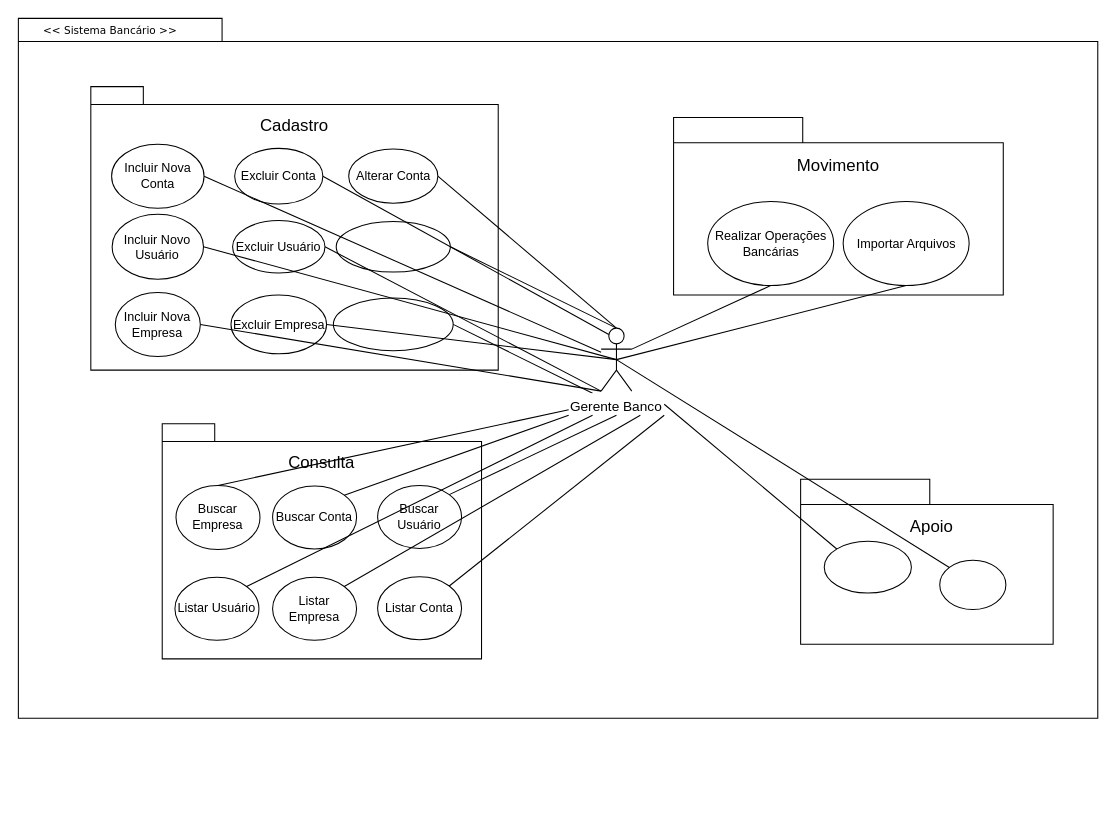
The diagram is 1116 pixels wide and 831 high, and some of its shapes have lost their labels. Each missing label, with the box of its shape:
Ajuda: (939, 559, 1006, 610)
Alterar Cor: (823, 540, 911, 593)
Alterar Empresa: (332, 297, 453, 351)
Alterar Usuário: (335, 220, 450, 272)
